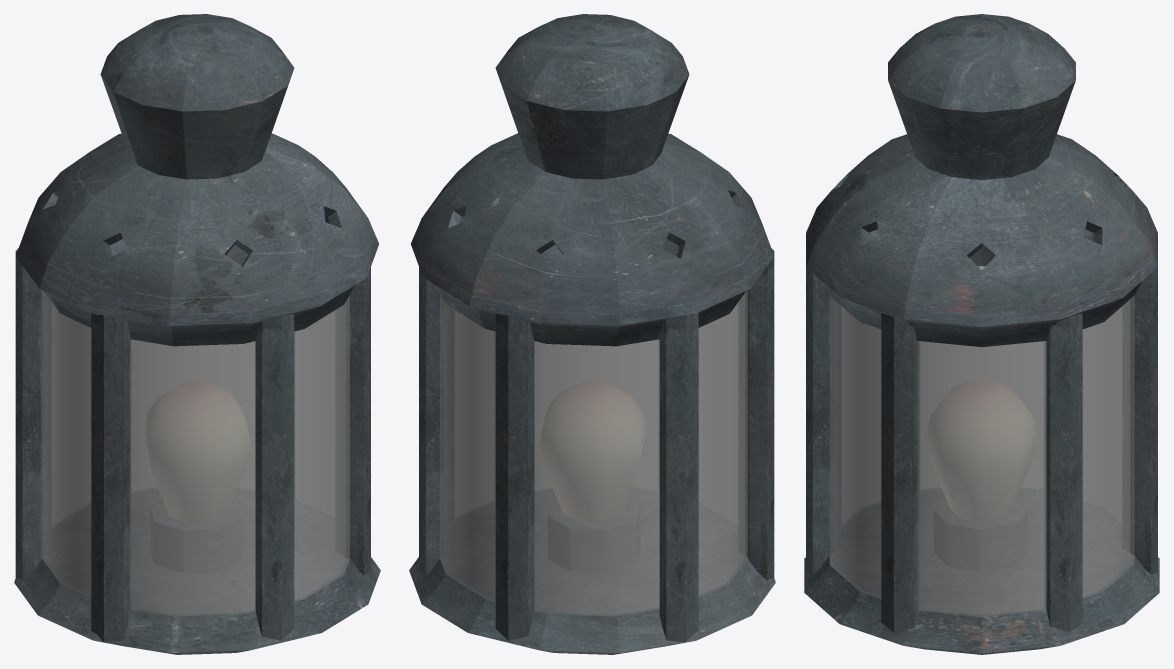
File: Table_Lamp.fbx
3 renders of one model, left to right at view 1: azimuth 30°, elevation 25°; view 2: azimuth 150°, elevation 25°; view 3: azimuth 270°, elevation 25°, orthographic.
Visible parts, largest first — view 1: Lamp_Metal, Glass, Bulb, Bulb_Join; view 2: Lamp_Metal, Glass, Bulb, Bulb_Join; view 3: Lamp_Metal, Glass, Bulb, Bulb_Join.
Boxes of the visible parts, <box> form: Lamp_Metal: <box>14,14,380,654</box>; Glass: <box>41,290,349,616</box>; Bulb: <box>143,381,250,522</box>; Bulb_Join: <box>150,500,242,572</box>; Lamp_Metal: <box>409,14,775,654</box>; Glass: <box>440,290,748,616</box>; Bulb: <box>540,381,646,521</box>; Bulb_Join: <box>548,499,639,572</box>; Lamp_Metal: <box>804,14,1159,654</box>; Glass: <box>829,266,1134,616</box>; Bulb: <box>927,380,1036,521</box>; Bulb_Join: <box>934,498,1028,571</box>.
Bounding box in the file's own units: 0.3128 × 0.5326 × 0.302.
